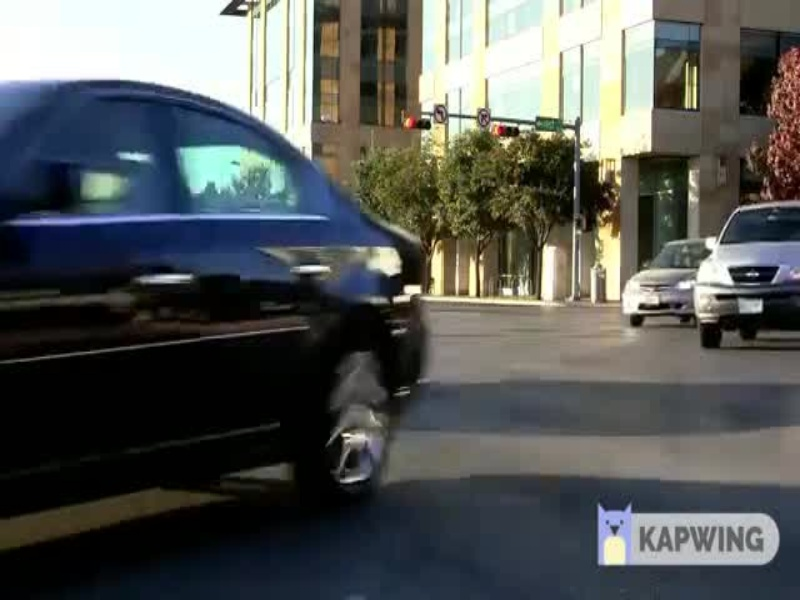car: (1, 79, 437, 525)
